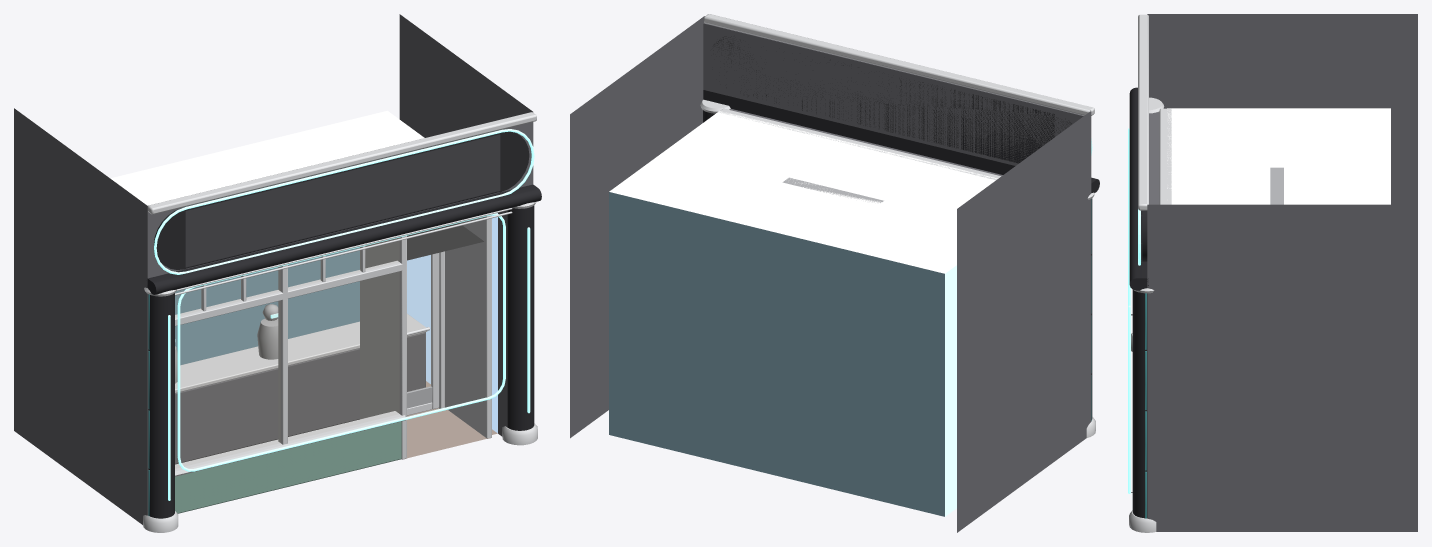
File: retro_shop_lit_5a.glb
The picture shows the model from 3 angles, left to right: view 1: azimuth 30°, elevation 25°; view 2: azimuth 150°, elevation 25°; view 3: azimuth 270°, elevation 25°; orthographic projection.
Visible parts, largest first — view 1: retro_shop_lit_5a; view 2: retro_shop_lit_5a; view 3: retro_shop_lit_5a.
Part boxes in pixels (x1,y1,x2,y2): retro_shop_lit_5a: [14, 14, 541, 532]; retro_shop_lit_5a: [570, 14, 1099, 532]; retro_shop_lit_5a: [1128, 14, 1417, 532].
Size of the model in its own units: 5.06 by 4 by 3.21.
